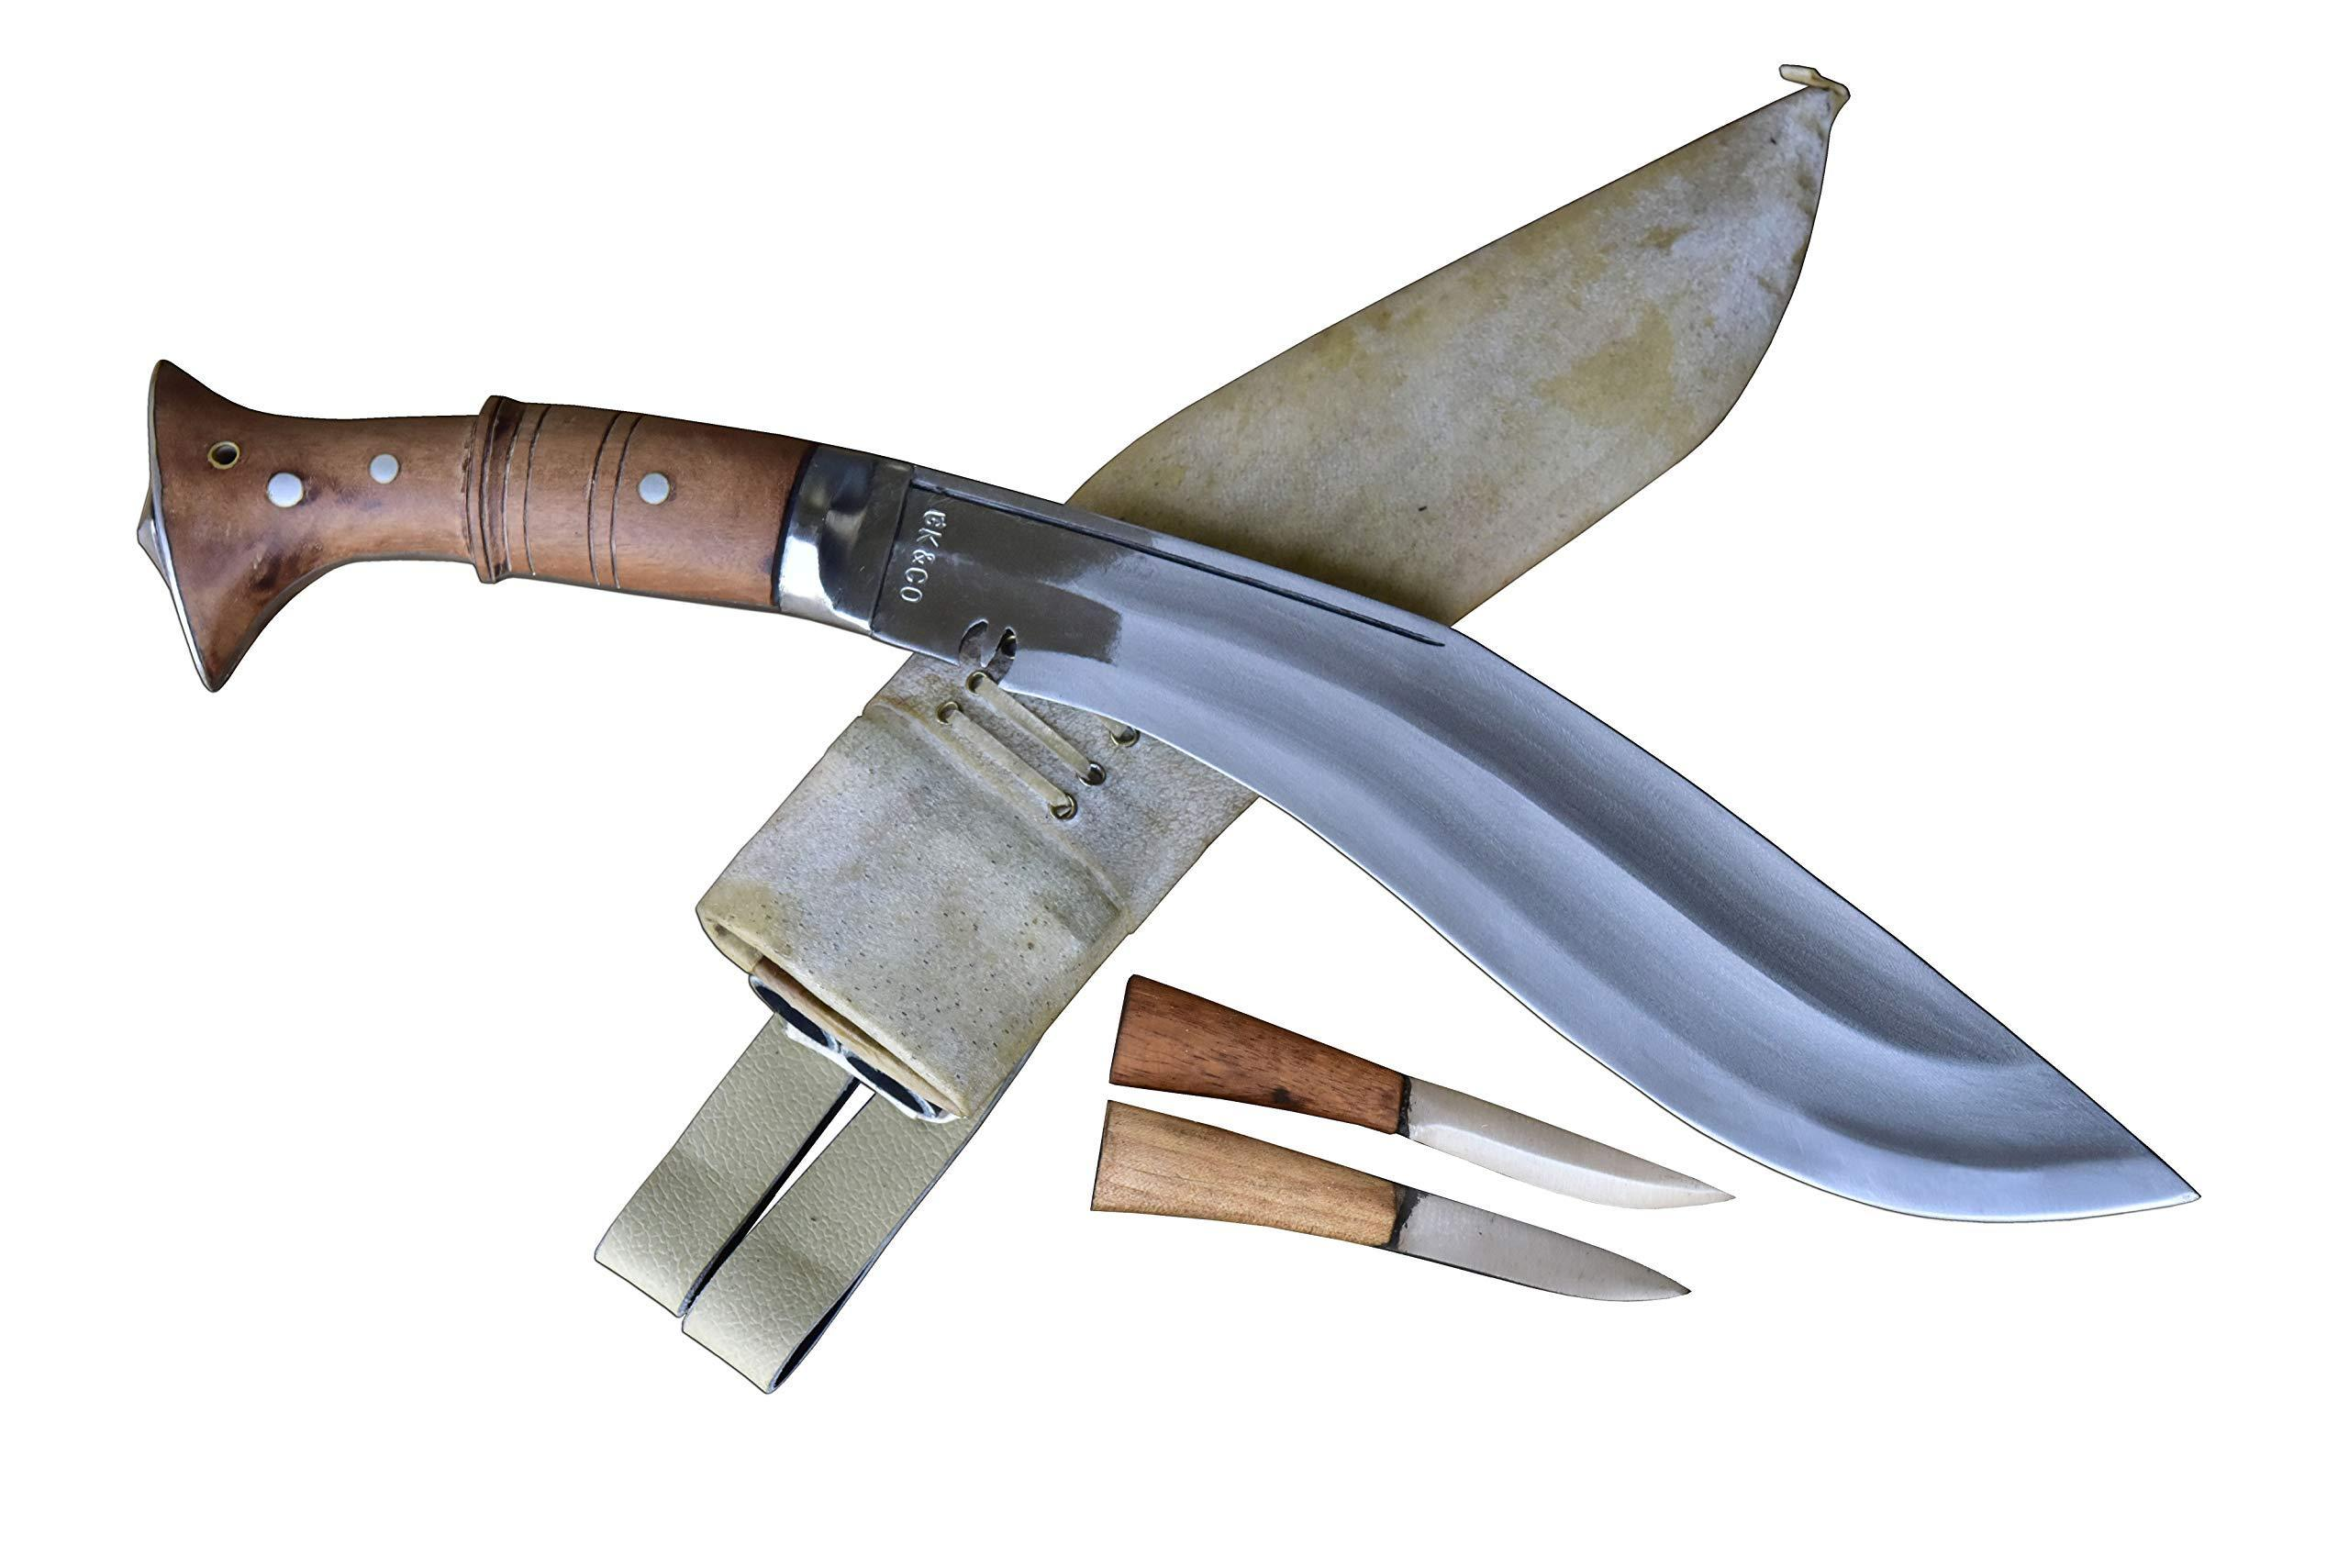faca: (1110, 977, 1731, 1207), (1092, 1101, 1687, 1300)
facao: (138, 364, 2195, 1220)
